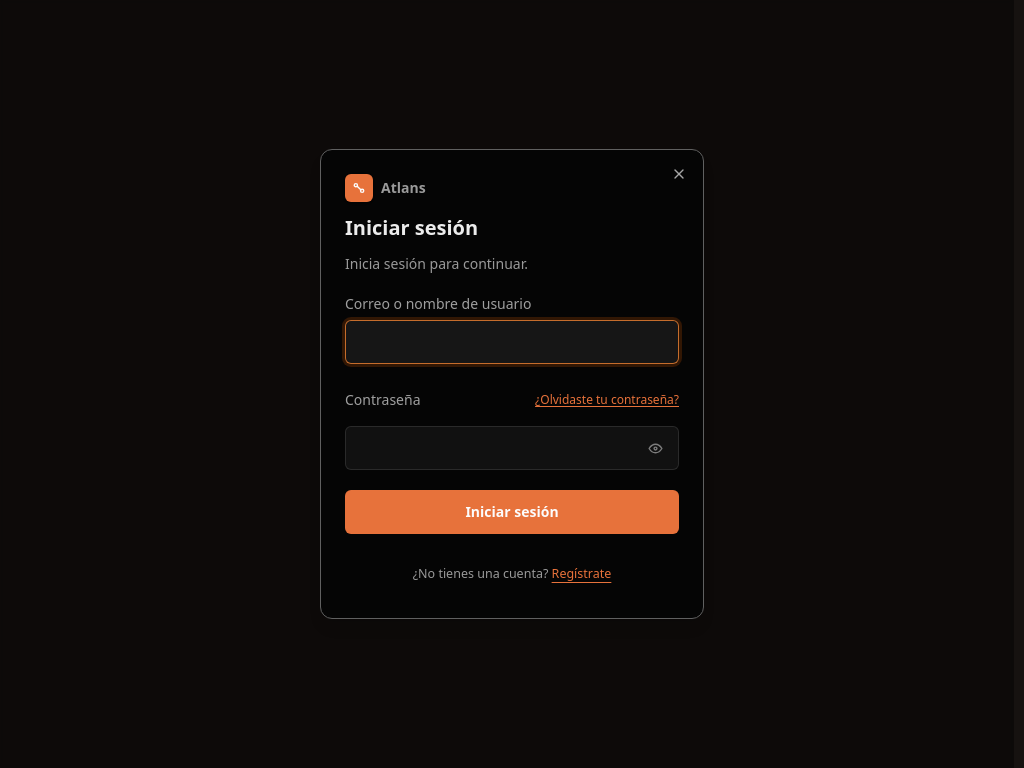
Test: entrada em es › entrar: título, apoio, rótulos, botões e rodapé — sem português
This screenshot has width=1024, height=768.
Expected: the dialog "Iniciar sesión" shows "Inicia sesión para continuar.", [345, 254, 528, 273]
Expected: the field labelled "Correo o nombre de usuario" is shown, [345, 320, 679, 364]
Click the button "Regístrate" at (581, 574), box [552, 554, 611, 594]
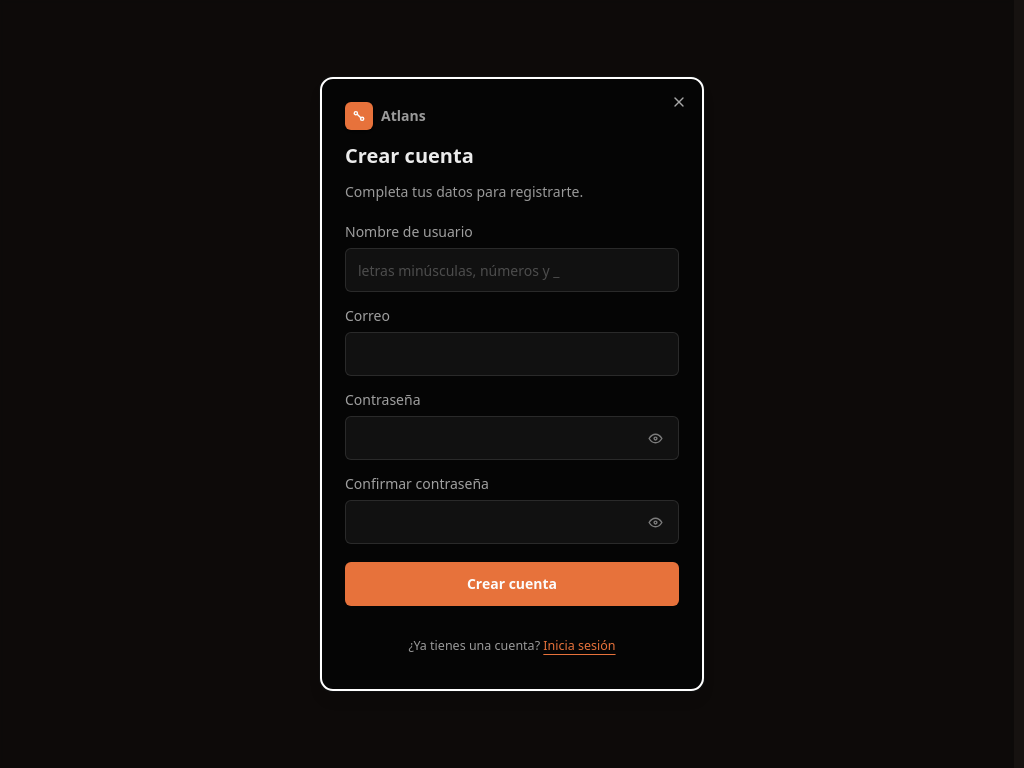
Expected: the dialog "Crear cuenta" is shown, [320, 77, 704, 691]
